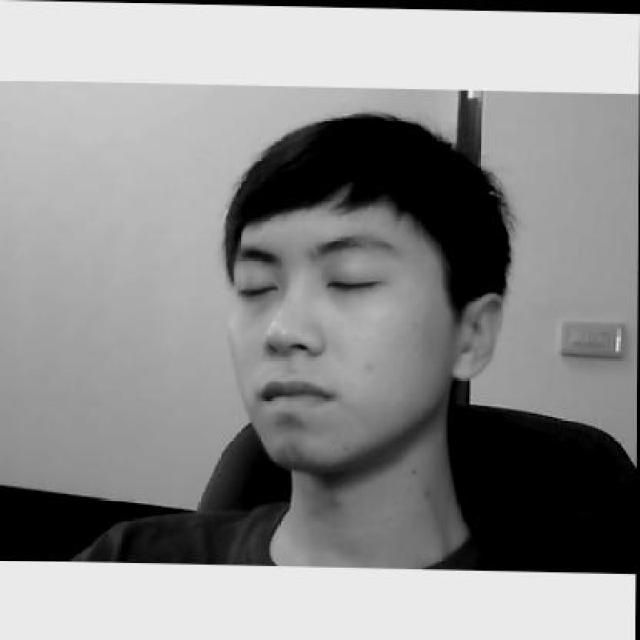inattentif: (229, 106, 503, 469)
